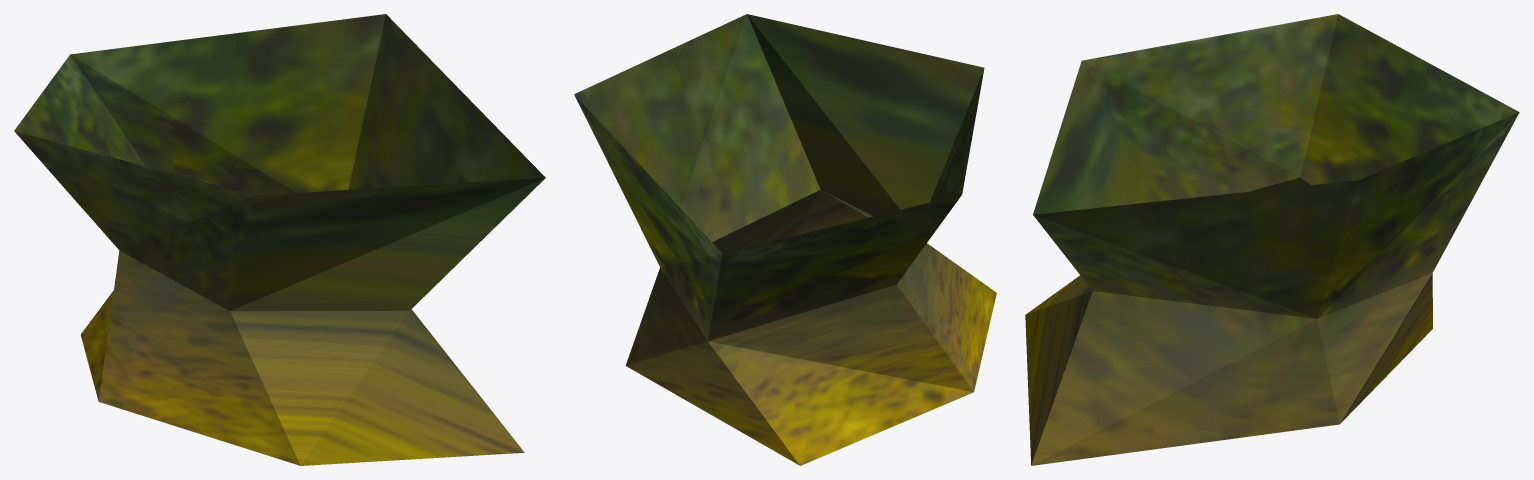
The model's file is Ridge_6_Lat.gltf.
3 renders of one model, left to right at view 1: azimuth 30°, elevation 25°; view 2: azimuth 150°, elevation 25°; view 3: azimuth 270°, elevation 25°, orthographic. The views are drawn at different scales.
Visible parts, largest first — view 1: Ridge_6_Lat; view 2: Ridge_6_Lat; view 3: Ridge_6_Lat.
Boxes of the visible parts, x1,y1,x2,y2 form: Ridge_6_Lat: (14, 14, 545, 465); Ridge_6_Lat: (574, 14, 996, 465); Ridge_6_Lat: (1025, 14, 1519, 465).
Bounding box in the file's own units: 35.61 × 27.42 × 40.96.
Materials: 1 (1 with a texture image).
